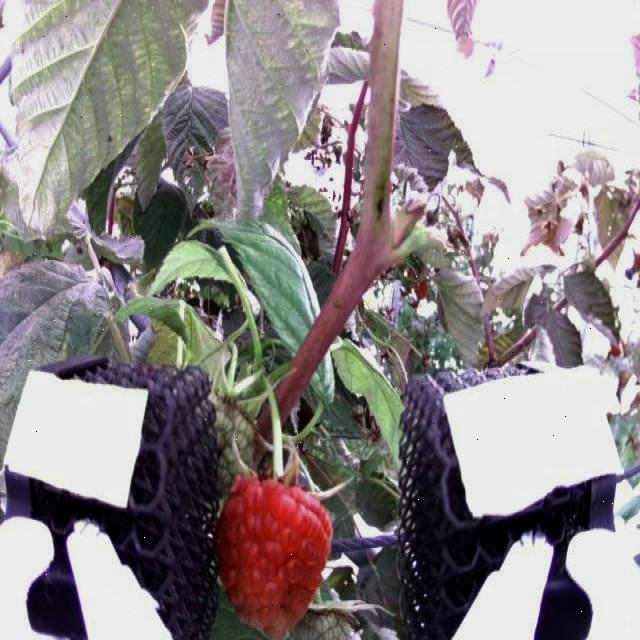Riped berries: (209, 466, 340, 640)
